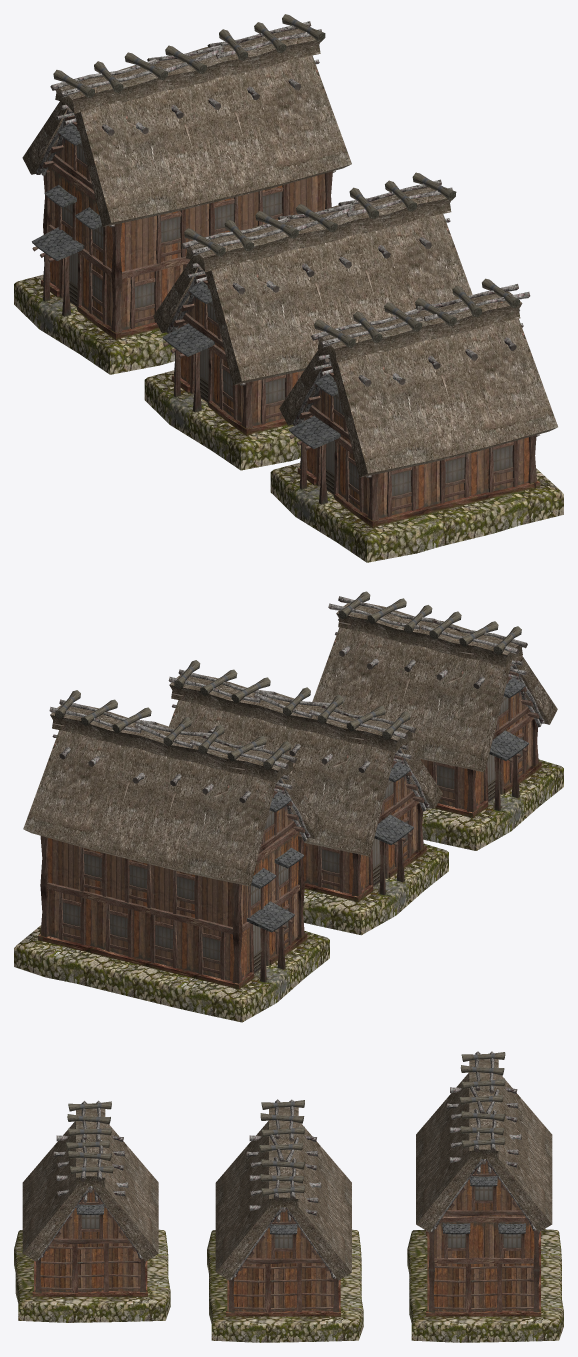
File: dojo_5.glb
3 renders of one model, top to bottom at view 1: azimuth 30°, elevation 25°; view 2: azimuth 150°, elevation 25°; view 3: azimuth 270°, elevation 25°, orthographic. The views are drawn at different scales.
Parts seen in each view (by area): view 1: House002, House, House001; view 2: House002, House, House001; view 3: House002, House001, House.
Boxes of the visible parts, x1,y1,x2,y2 form: House002: (14,14,351,374); House: (270,278,563,562); House001: (144,172,472,470); House002: (14,690,329,1022); House: (312,591,563,850); House001: (168,660,448,935); House002: (407,1051,563,1342); House001: (207,1099,363,1342); House: (14,1100,170,1322).
Size of the model in its own units: 3.18 by 2.94 by 7.4.
1 material, 1 textured.
